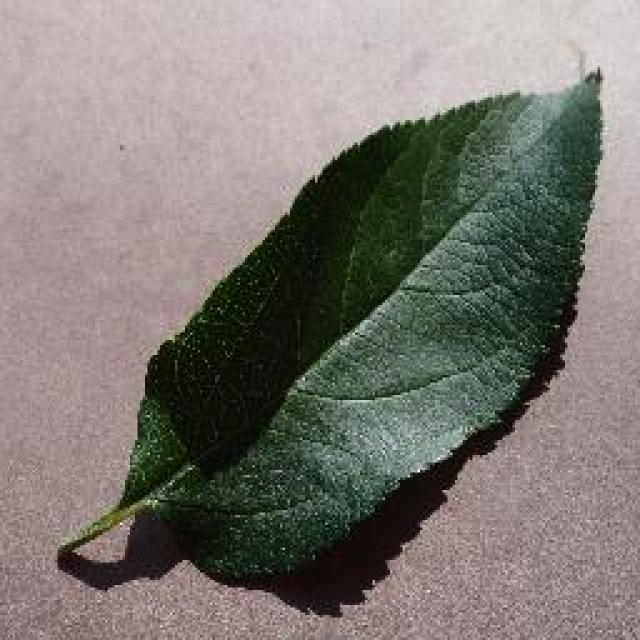apple scab disease: (55, 55, 607, 585)
